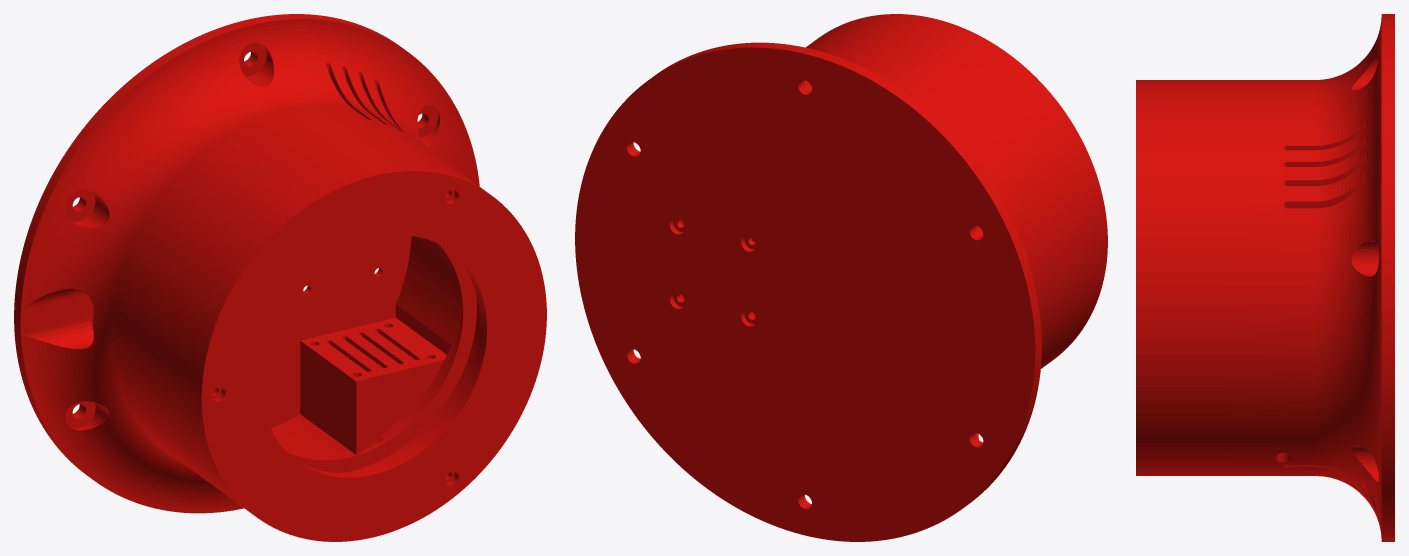
Rendered from Thor0.obj.
3 renders of one model, left to right at view 1: azimuth 30°, elevation 25°; view 2: azimuth 150°, elevation 25°; view 3: azimuth 270°, elevation 25°, orthographic.
Size of the model in its own units: 20 by 20 by 9.8.
Materials: 1 (1 with a texture image).
